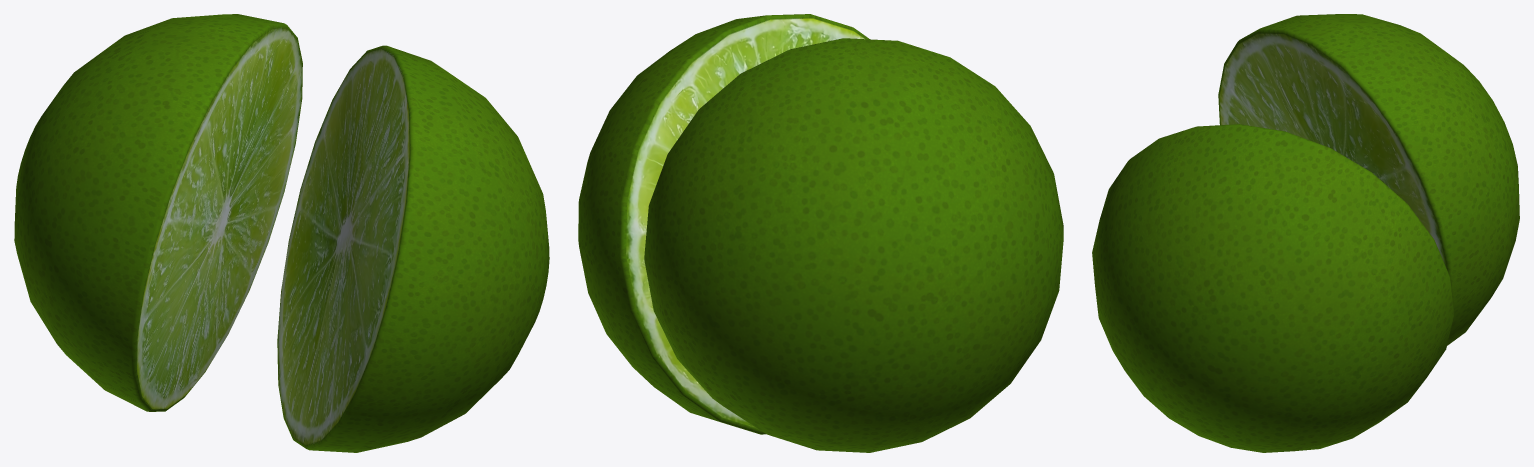
The model's file is sliced_greenlemon.glb.
3 views of the same model, side by side, from view 1: azimuth 30°, elevation 25°; view 2: azimuth 150°, elevation 25°; view 3: azimuth 270°, elevation 25° (orthographic). The views are drawn at different scales.
Visible parts, largest first — view 1: Sphere001, Sphere001.001; view 2: Sphere001.001, Sphere001; view 3: Sphere001, Sphere001.001.
Part boxes in pixels (x1,y1,x2,y2): Sphere001: (277,45,549,452); Sphere001.001: (14,14,302,411); Sphere001.001: (644,38,1063,452); Sphere001: (578,14,869,434); Sphere001: (1092,124,1454,452); Sphere001.001: (1218,14,1519,345).
Bounding box in the file's own units: 0.6392 × 0.5462 × 0.5821.
Materials: 2 (2 with a texture image).
